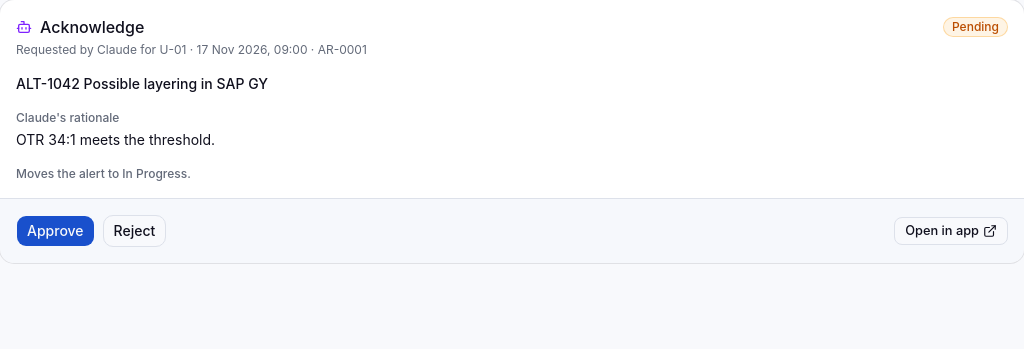
Test: ActionRequestView › reject sends the reason and tells Claude
Click the button "Reject": click(134, 231) [103,215,166,247]
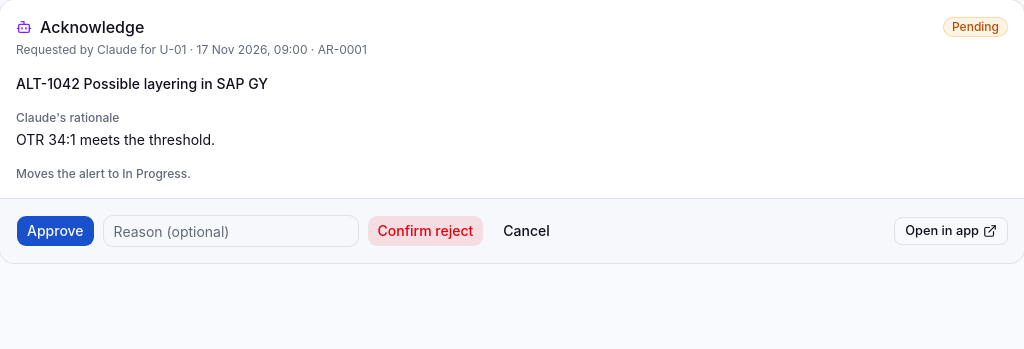
In the field labelled "Reason (optional)": (231, 231) [103,215,359,247], type "Not yet"
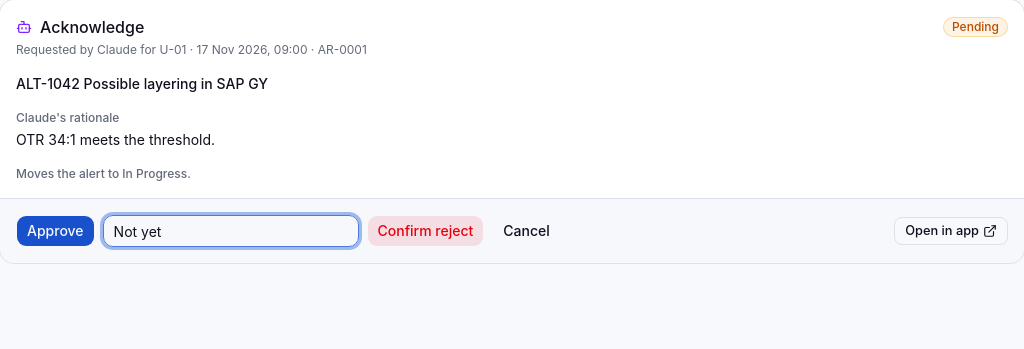
Click the button "Confirm reject": click(426, 231) [367,215,484,247]
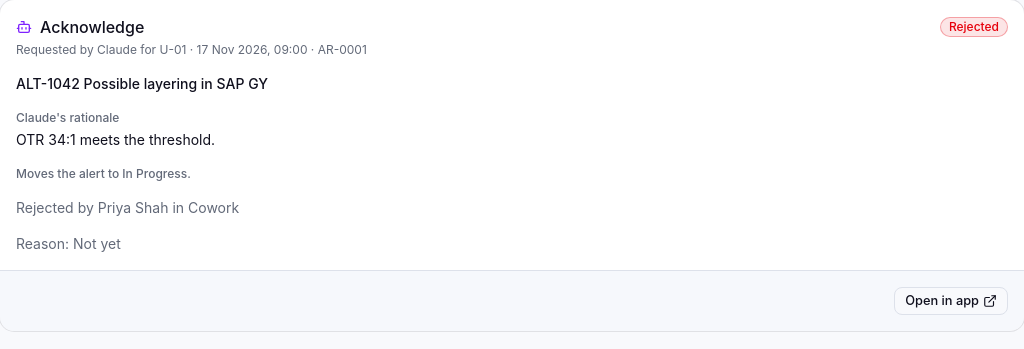
Expected: the text with test id "decision" reads "Rejected by Priya Shah in Cowork", [16,199,239,216]
